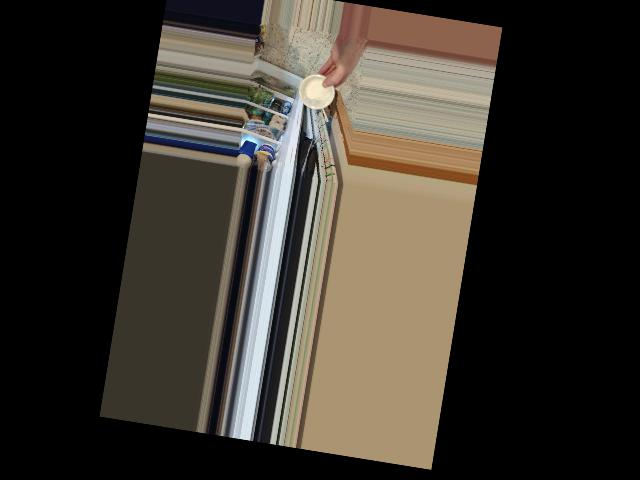cotage: (302, 70, 339, 110)
